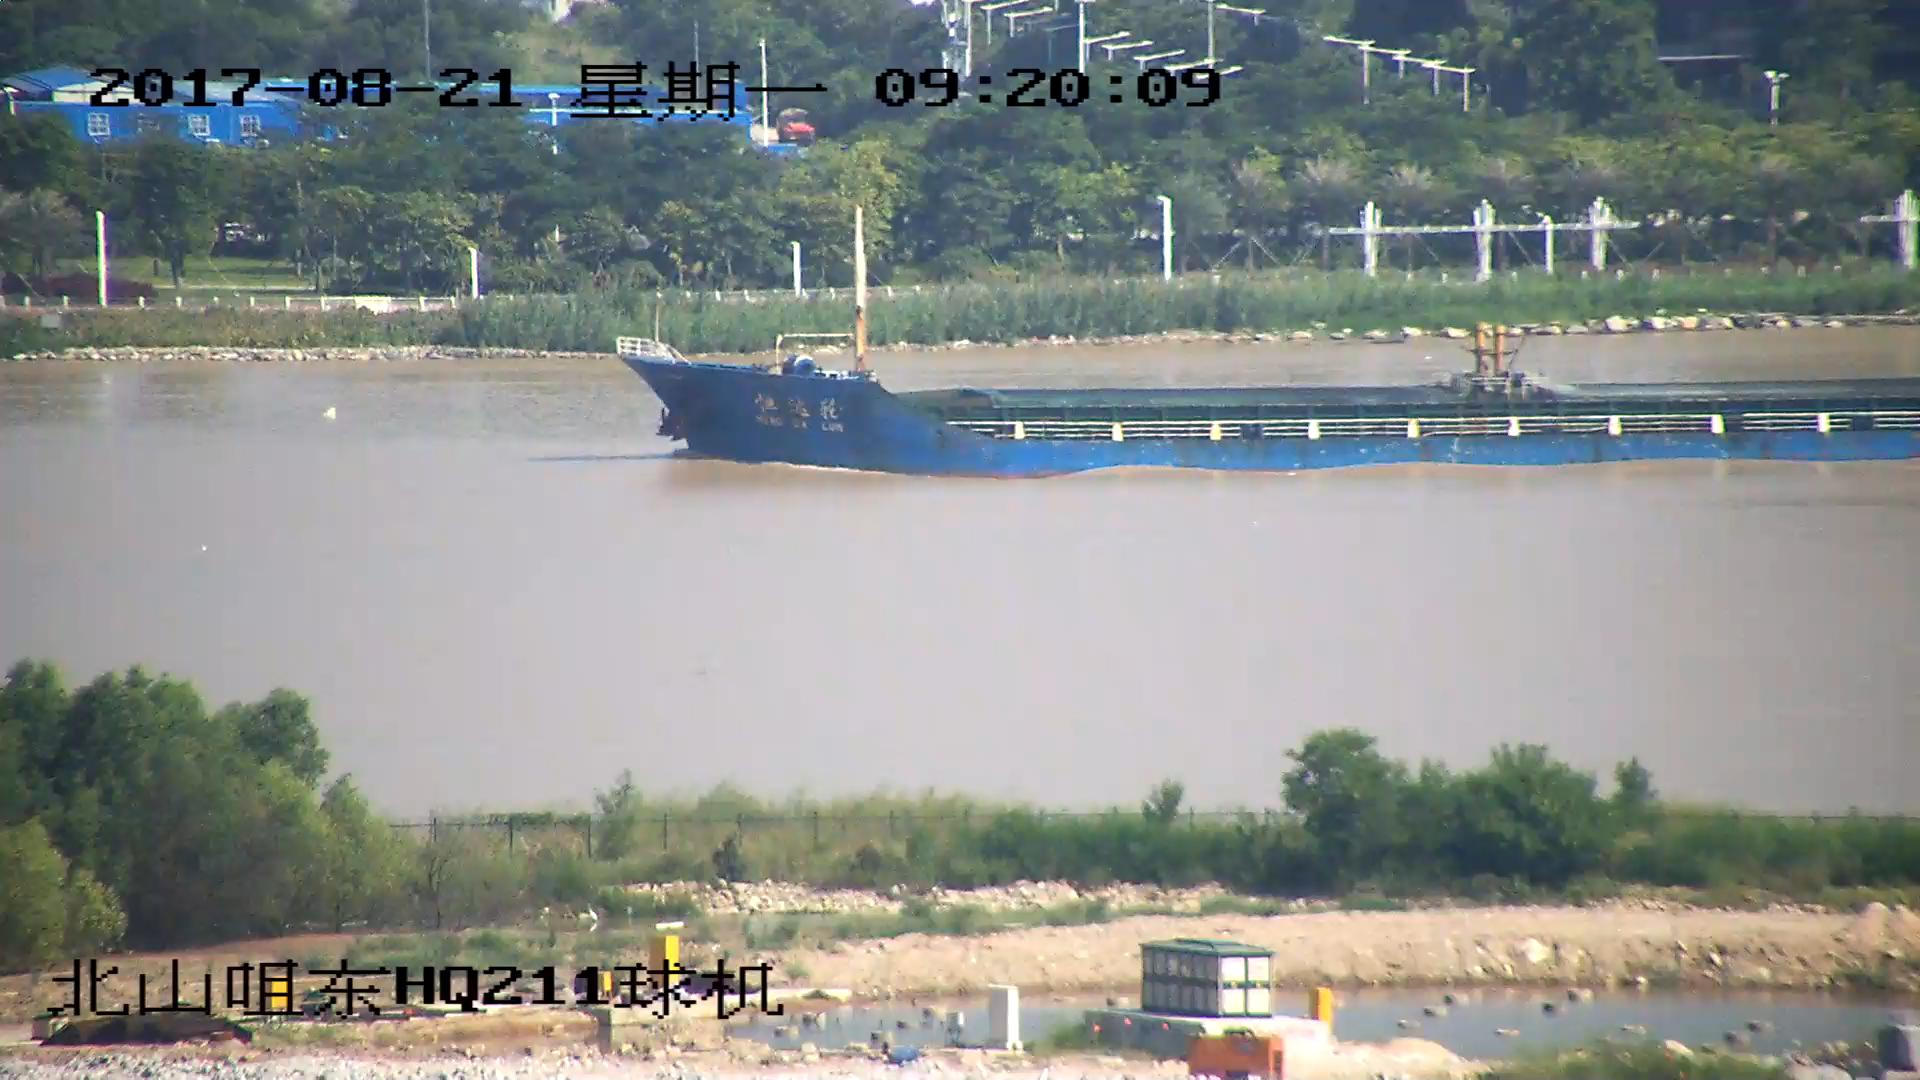general cargo ship: (615, 202, 1920, 484)
